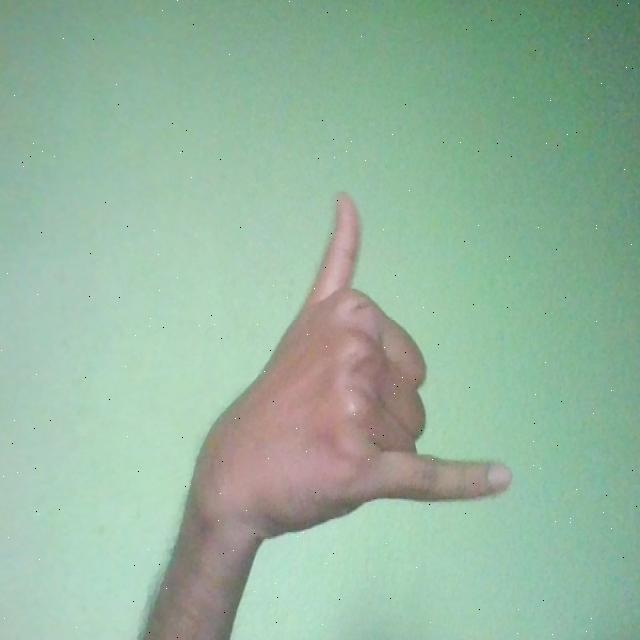Call Me: (185, 193, 513, 541)
